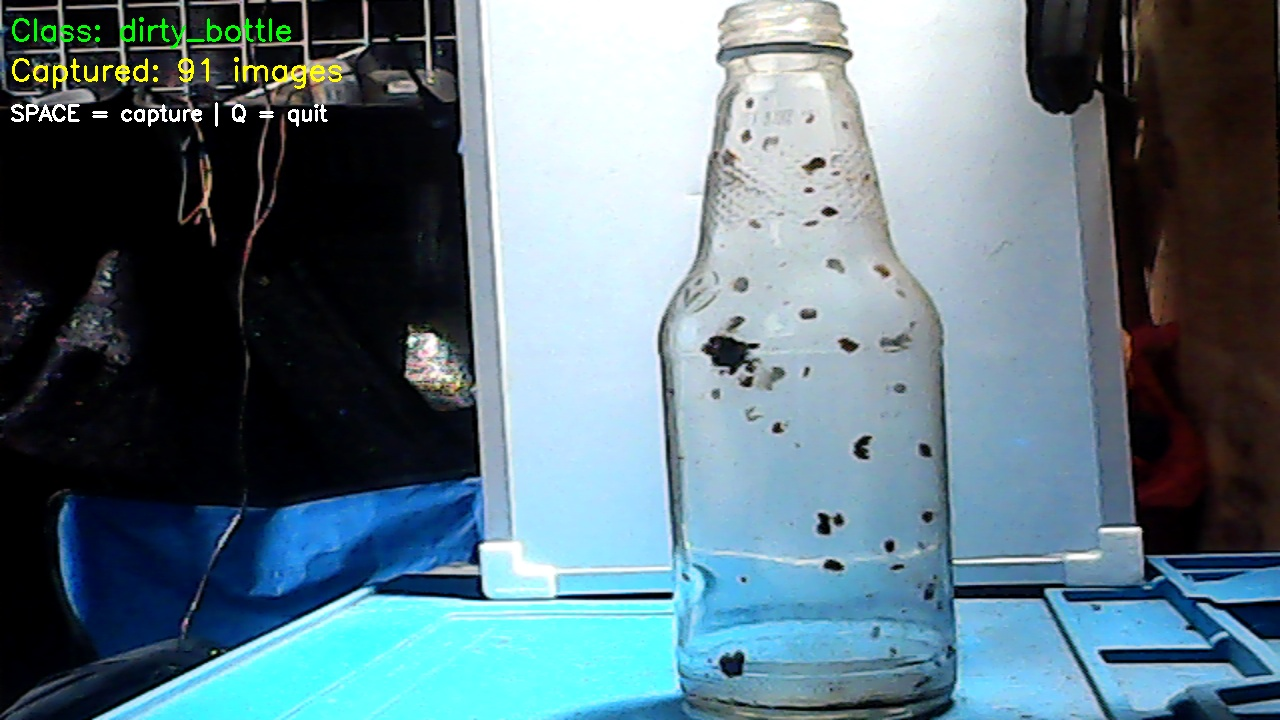dirty_bottle: (625, 0, 967, 717)
